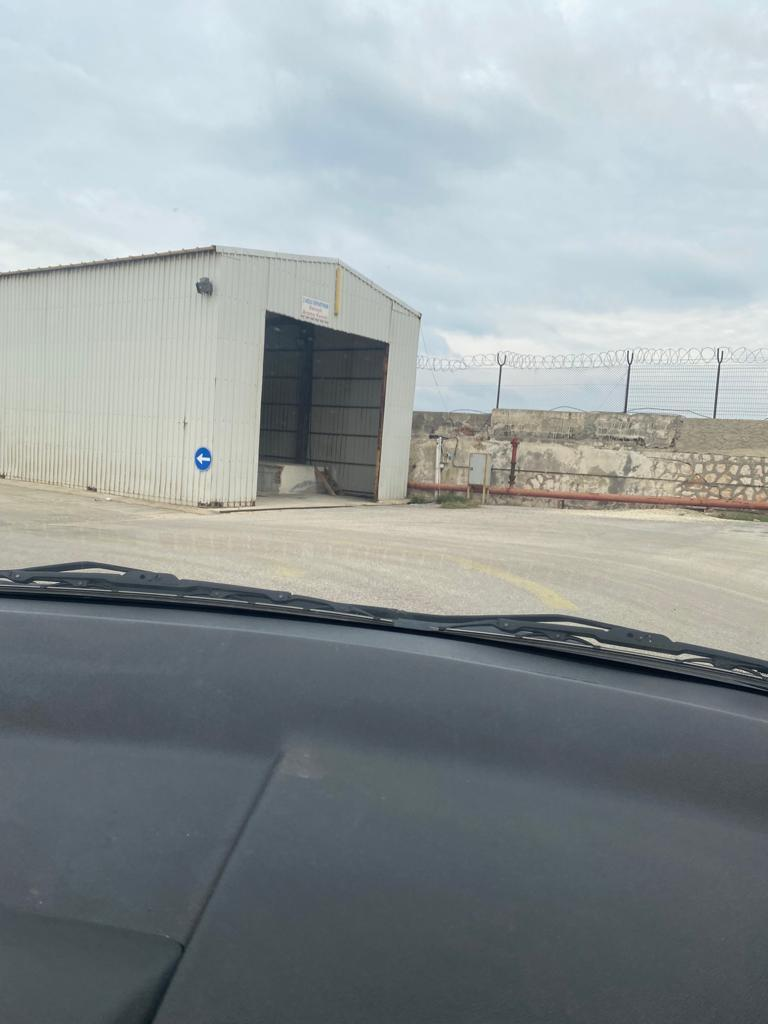turnleft: (193, 447, 214, 473)
